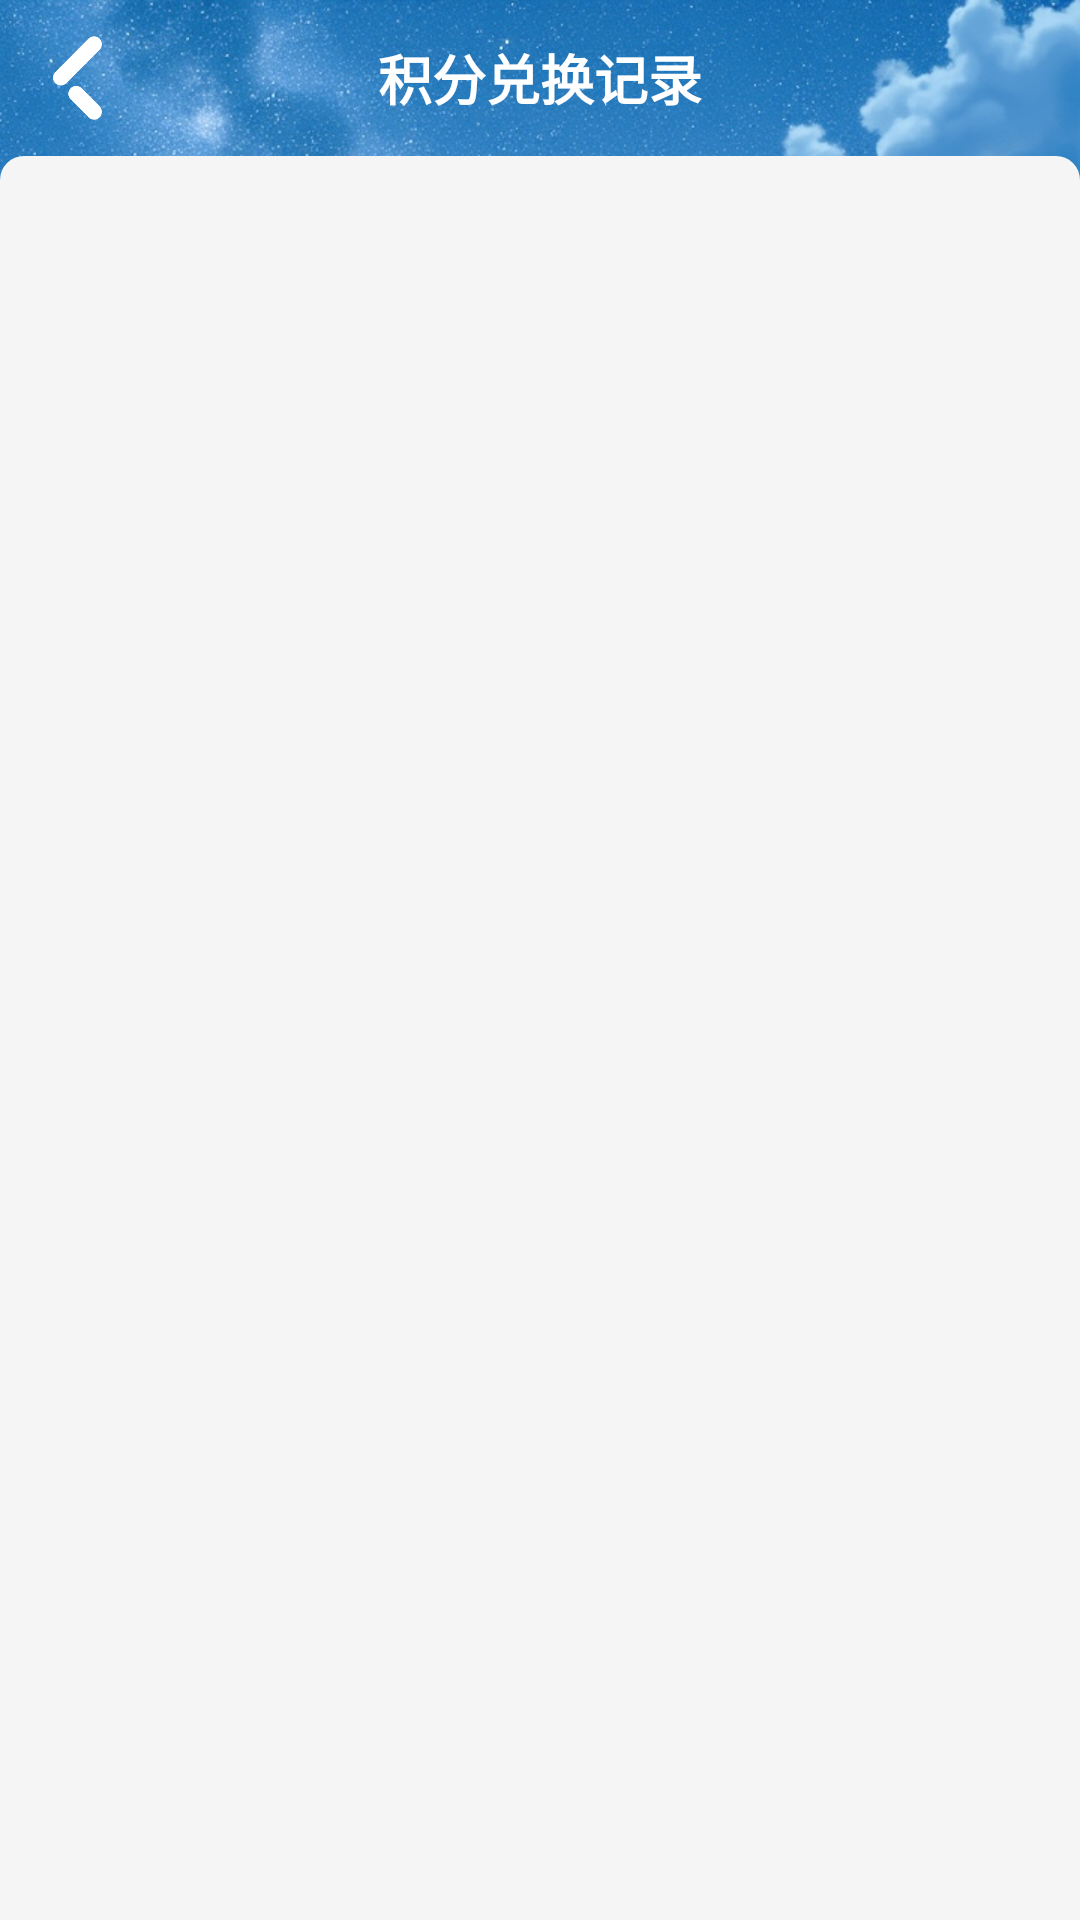

Icon click points for this 1080w x 1920h phone screenshot, format (x,y):
goback: (78,78)
